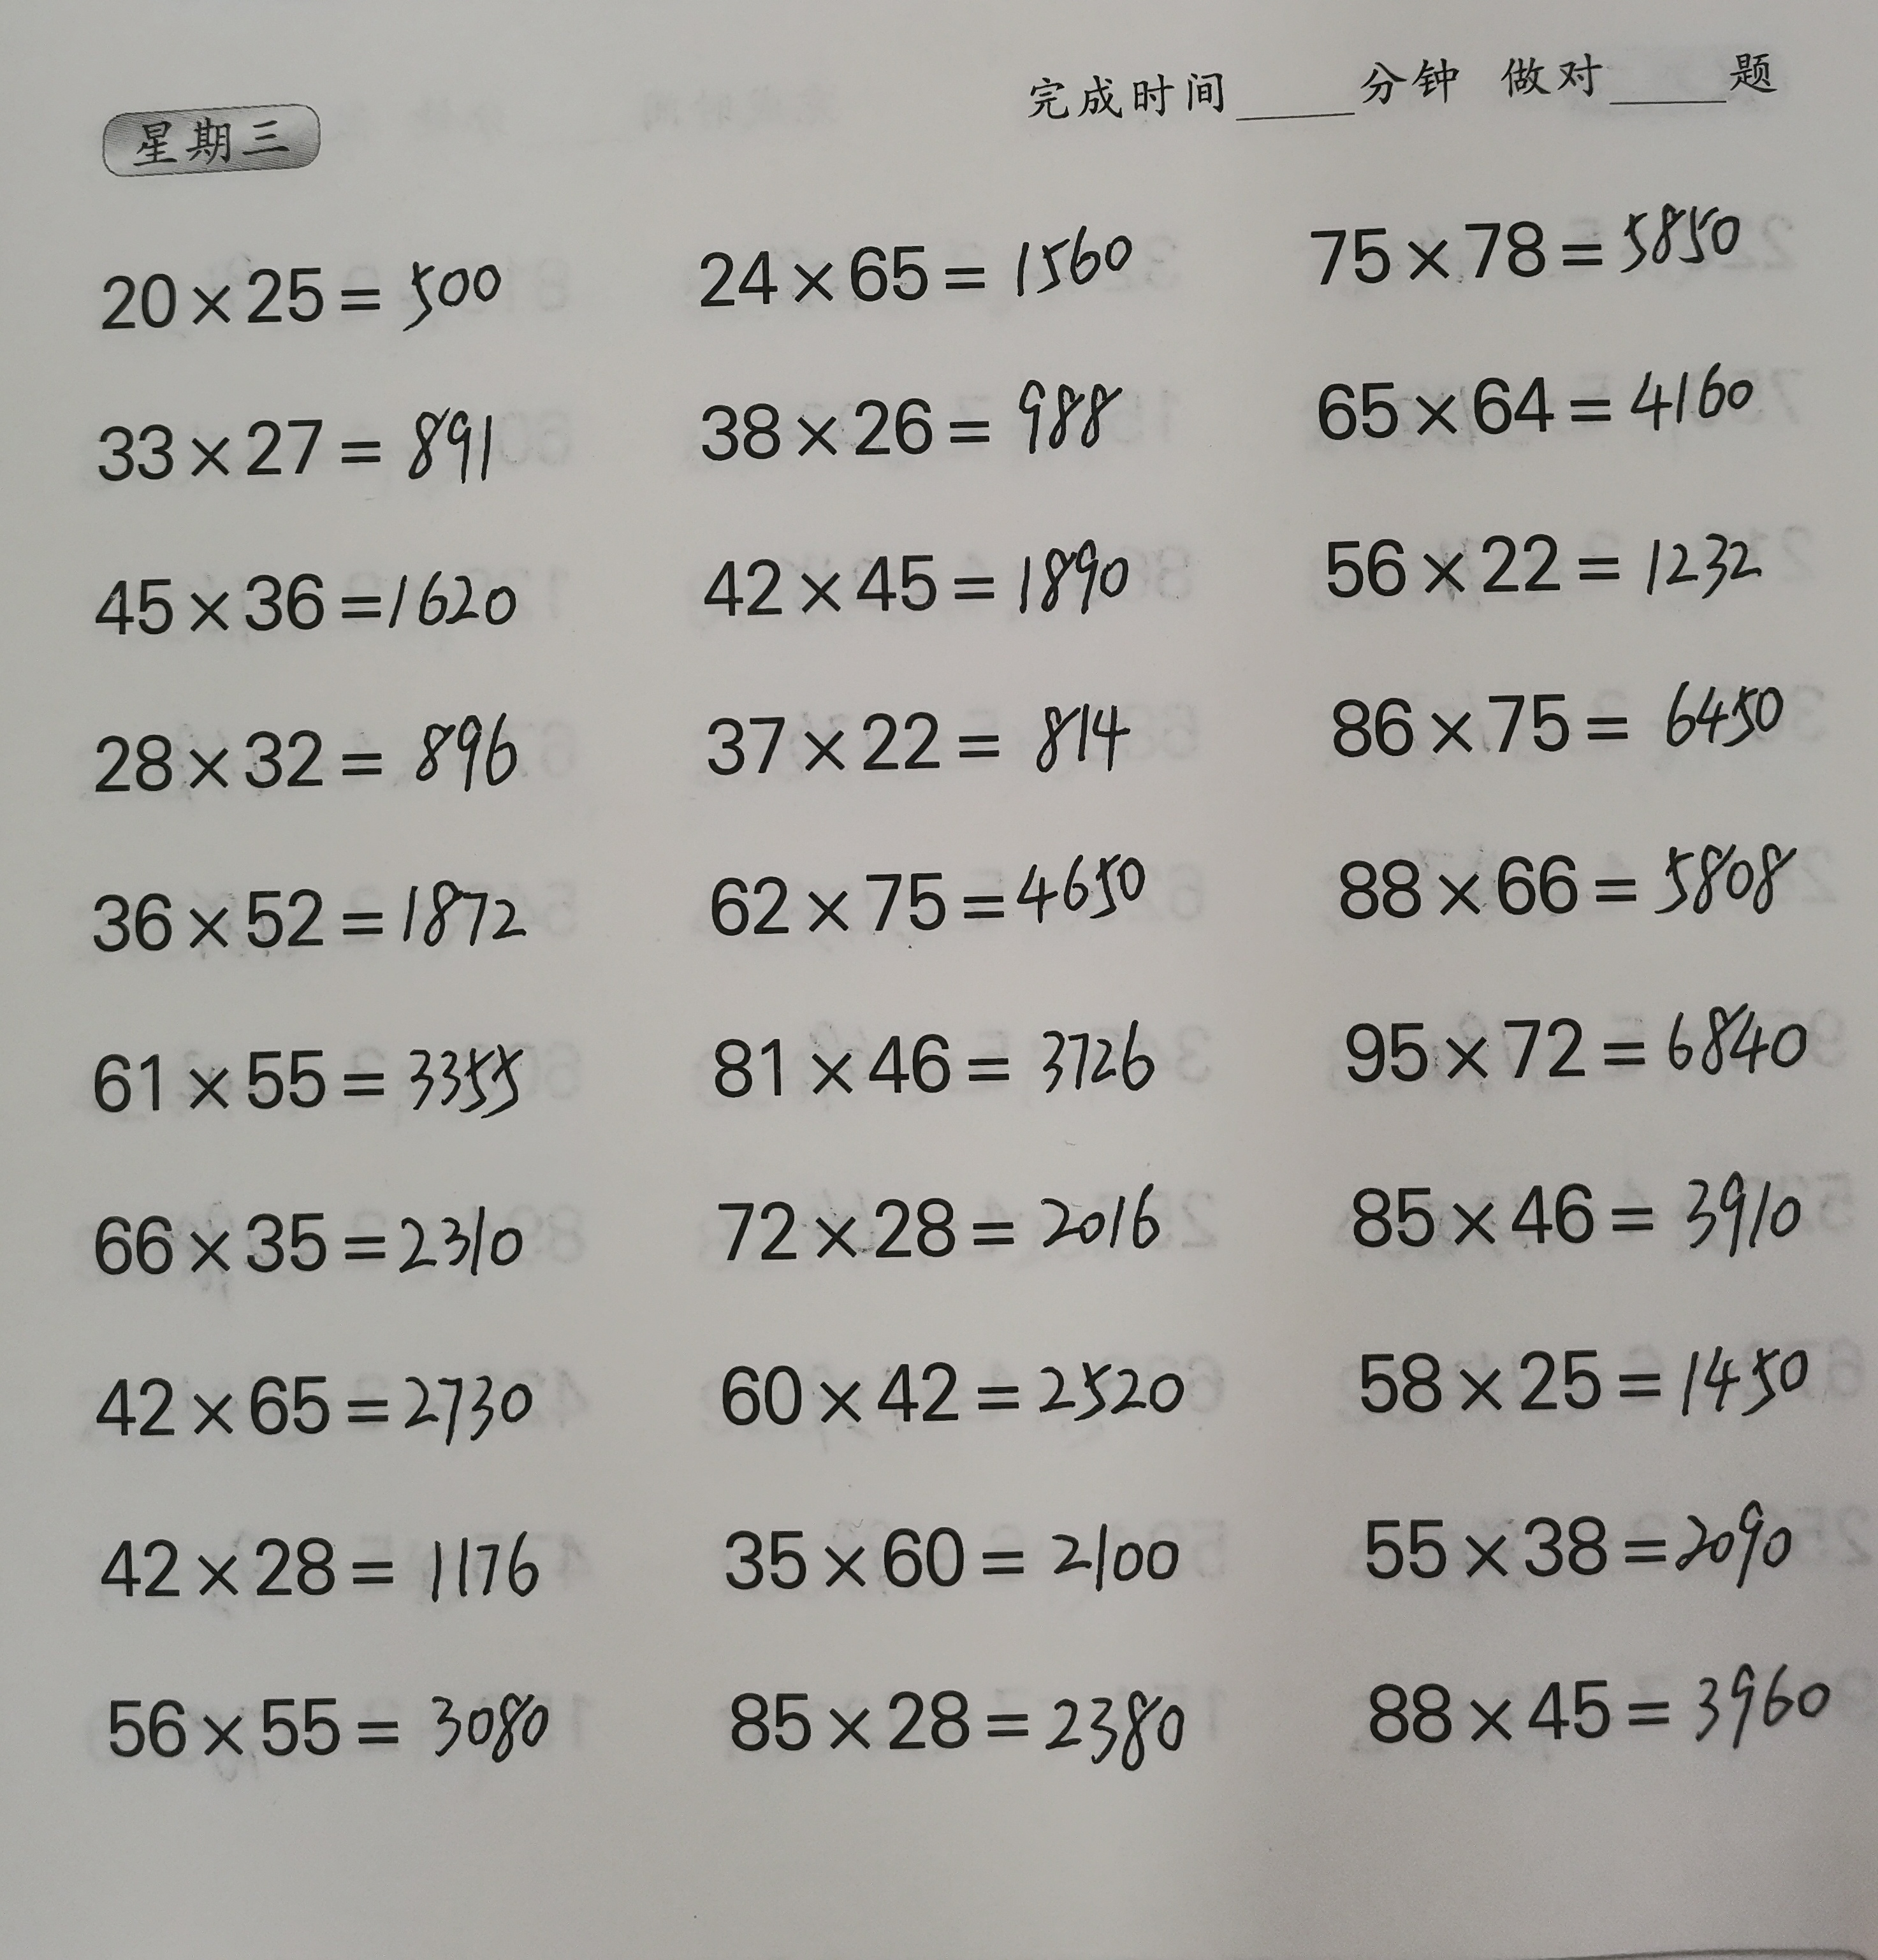equation: (1302, 819, 1815, 948), (698, 1489, 1197, 1622), (660, 674, 1167, 803), (1325, 1146, 1834, 1272), (1351, 1642, 1859, 1766), (1341, 1298, 1834, 1426), (705, 1659, 1222, 1778), (1302, 165, 1761, 298), (77, 1337, 560, 1463), (679, 994, 1206, 1109), (662, 198, 1152, 318), (1307, 982, 1834, 1094), (1304, 502, 1790, 623), (68, 686, 550, 807), (686, 838, 1183, 954), (1341, 1479, 1818, 1598), (1299, 651, 1797, 765), (89, 1670, 576, 1785), (1306, 343, 1789, 457), (81, 1013, 541, 1132), (70, 387, 541, 502), (695, 1330, 1206, 1435), (690, 513, 1148, 628), (716, 1167, 1192, 1278), (690, 357, 1129, 476), (89, 1517, 557, 1627), (68, 222, 522, 334), (68, 1181, 530, 1290), (74, 865, 555, 968), (60, 555, 539, 648)
